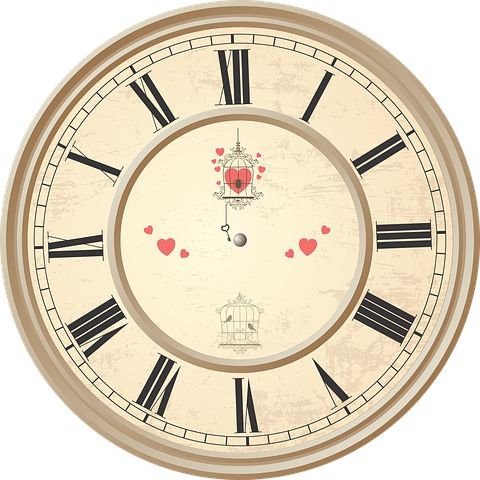clock: (8, 4, 479, 480)
